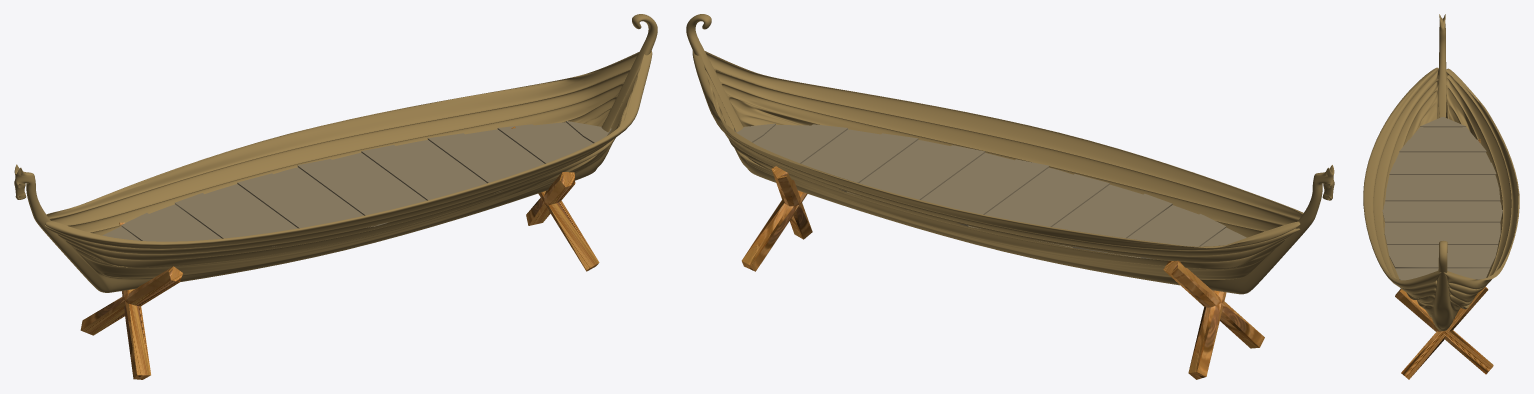
Rendered from skib.fbx.
3 views of the same model, side by side, from view 1: azimuth 30°, elevation 25°; view 2: azimuth 150°, elevation 25°; view 3: azimuth 270°, elevation 25° (orthographic). The views are drawn at different scales.
Visible parts, largest first — view 1: Cube, Disc, Cylinder_3, Cylinder, Cylinder_2, Cylinder_1; view 2: Cube, Disc, Cylinder, Cylinder_3, Cylinder_1, Cylinder_2; view 3: Disc, Cube, Cylinder_1, Cylinder_2.
Part boxes in pixels (x1,y1,x2,y2): Cube: (14, 14, 657, 292); Disc: (102, 121, 611, 246); Cylinder_3: (80, 266, 182, 335); Cylinder: (119, 222, 150, 379); Cylinder_2: (511, 126, 599, 271); Cylinder_1: (526, 172, 575, 225); Cube: (686, 14, 1334, 294); Disc: (734, 123, 1246, 259); Cylinder: (1163, 260, 1264, 348); Cylinder_3: (1188, 290, 1226, 379); Cylinder_1: (741, 190, 807, 271); Cylinder_2: (771, 166, 812, 239); Disc: (1382, 117, 1502, 280); Cube: (1363, 14, 1519, 331); Cylinder_1: (1395, 289, 1493, 374); Cylinder_2: (1401, 286, 1488, 379).
Bounding box in the file's own units: 880 × 291 × 249.
Materials: 3 (1 with a texture image).
